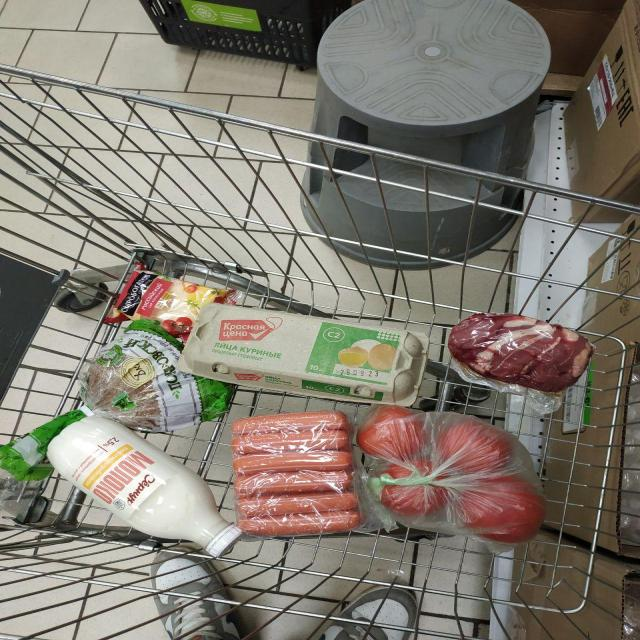Bread: (0, 319, 233, 481)
Cheese: (105, 270, 240, 341)
Eggs: (180, 305, 430, 404)
Meat: (448, 314, 593, 392)
Milk: (47, 416, 242, 556)
Sausages: (232, 411, 362, 536)
Tomatoes: (455, 475, 545, 544), (437, 420, 512, 474), (357, 405, 423, 464), (380, 484, 447, 516), (382, 464, 413, 479), (410, 459, 432, 476), (435, 475, 442, 479)
